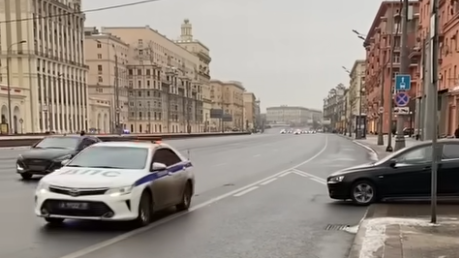non emergency car: (329, 135, 459, 206), (16, 132, 95, 181)
police car: (35, 135, 197, 225)
